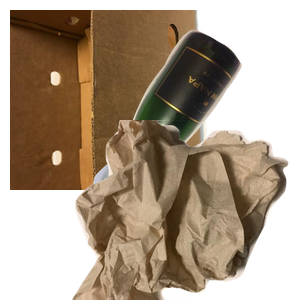cardboard: (10, 10, 211, 190)
glass: (87, 27, 300, 207)
plastic: (91, 152, 281, 300)
trash: (70, 120, 300, 300)
